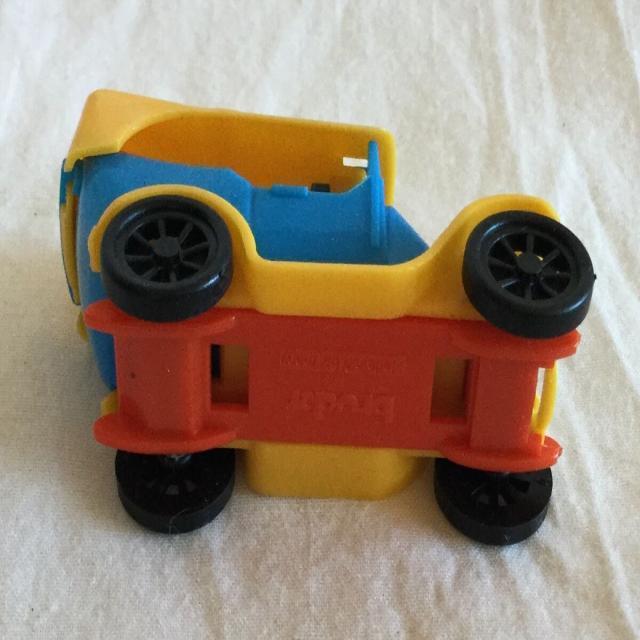hard-toy: (62, 90, 595, 543)
